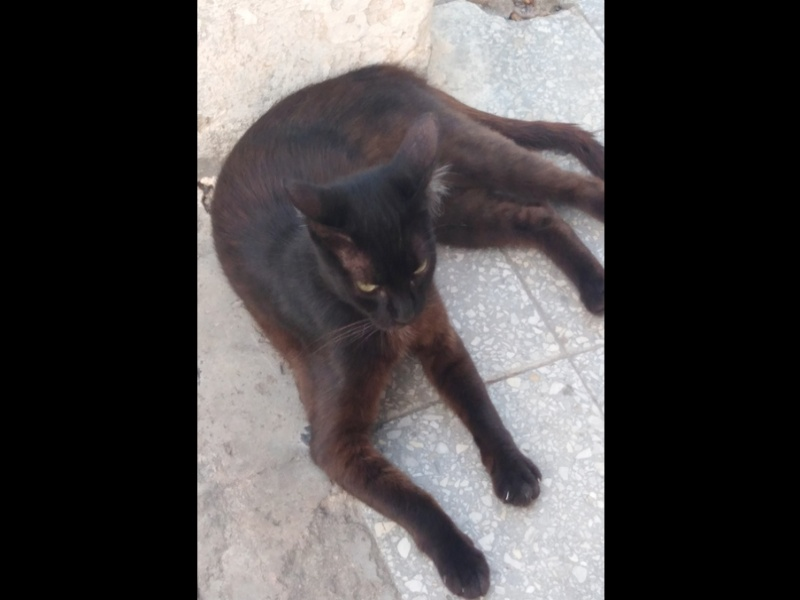cat: (211, 59, 602, 600)
